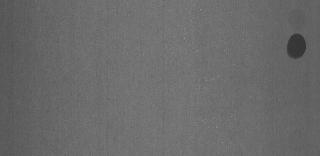oil spot: (285, 30, 311, 62)
